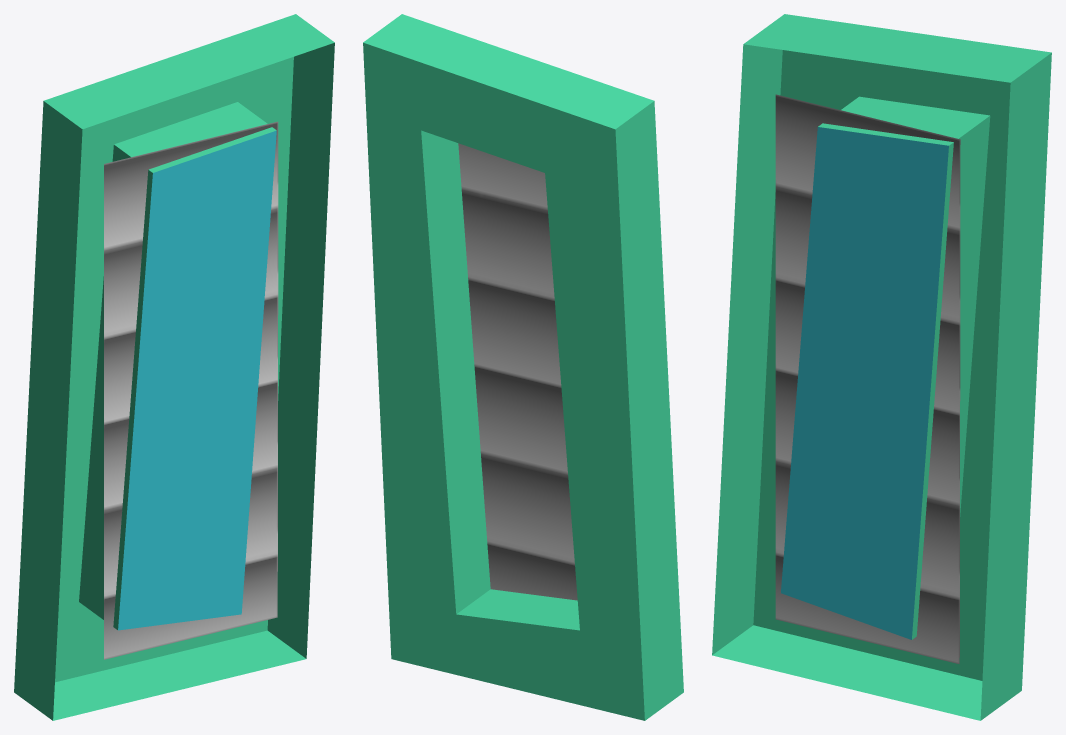
Rendered from WindowNarrow.fbx.
3 renders of one model, left to right at view 1: azimuth 30°, elevation 25°; view 2: azimuth 150°, elevation 25°; view 3: azimuth 330°, elevation 25°, orthographic. The views are drawn at different scales.
Parts seen in each view (by area): view 1: WindowNarrow, Blind.004; view 2: WindowNarrow, Blind.004; view 3: WindowNarrow, Blind.004.
Part boxes in pixels (left/top/right/bottom): WindowNarrow: left=14, top=14, right=334, bottom=720; Blind.004: left=104, top=121, right=278, bottom=659; WindowNarrow: left=363, top=14, right=683, bottom=720; Blind.004: left=458, top=143, right=577, bottom=600; WindowNarrow: left=712, top=14, right=1051, bottom=720; Blind.004: left=775, top=94, right=960, bottom=664.
Bounding box in the file's own units: 62.54 × 129 × 15.
